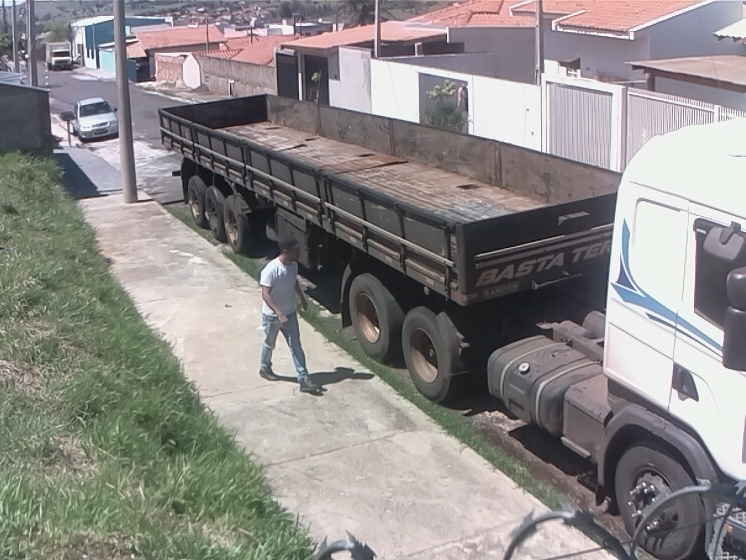person: (258, 236, 328, 396)
